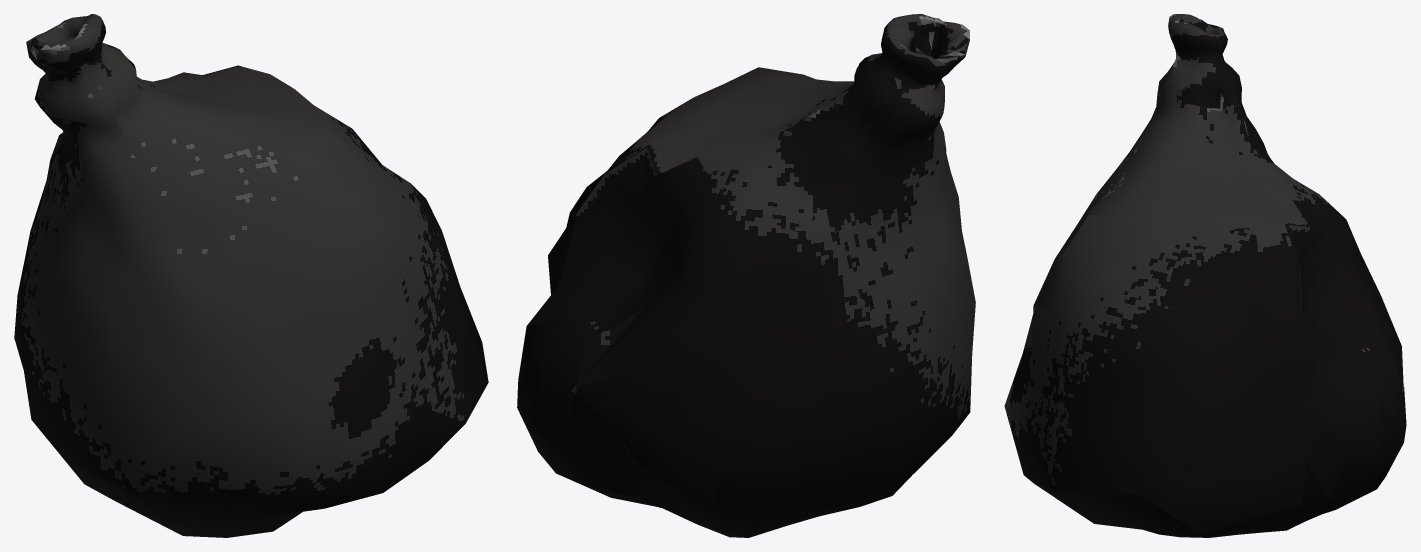
File: plastic_bag.glb
3 views of the same model, side by side, from view 1: azimuth 30°, elevation 25°; view 2: azimuth 150°, elevation 25°; view 3: azimuth 270°, elevation 25° (orthographic). The views are drawn at different scales.
Parts seen in each view (by area): view 1: mesh; view 2: mesh; view 3: mesh.
Part boxes in pixels (<box>): mesh: <box>14,14,488,537</box>; mesh: <box>517,14,975,537</box>; mesh: <box>1004,14,1406,537</box>.
Size of the model in its own units: 0.2117 by 0.25 by 0.2133.
Materials: 1 (1 with a texture image).
